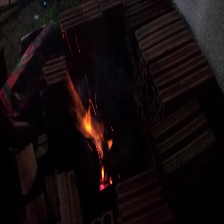fire: (65, 78, 116, 193)
